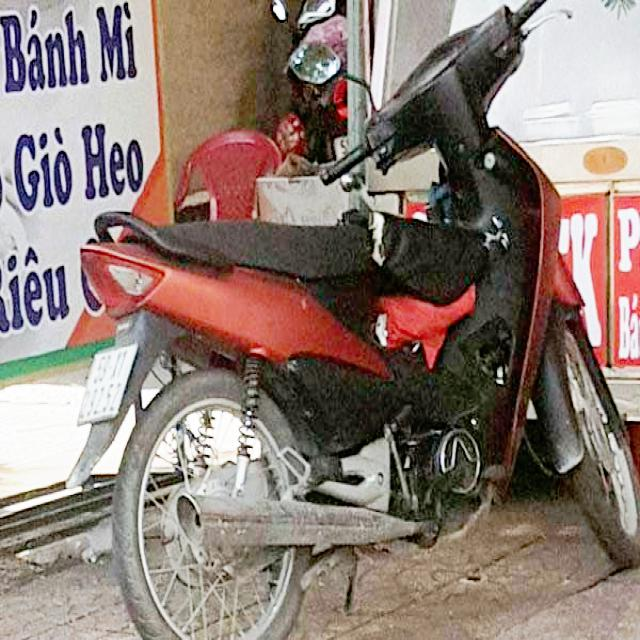license_plate: (75, 342, 140, 426)
